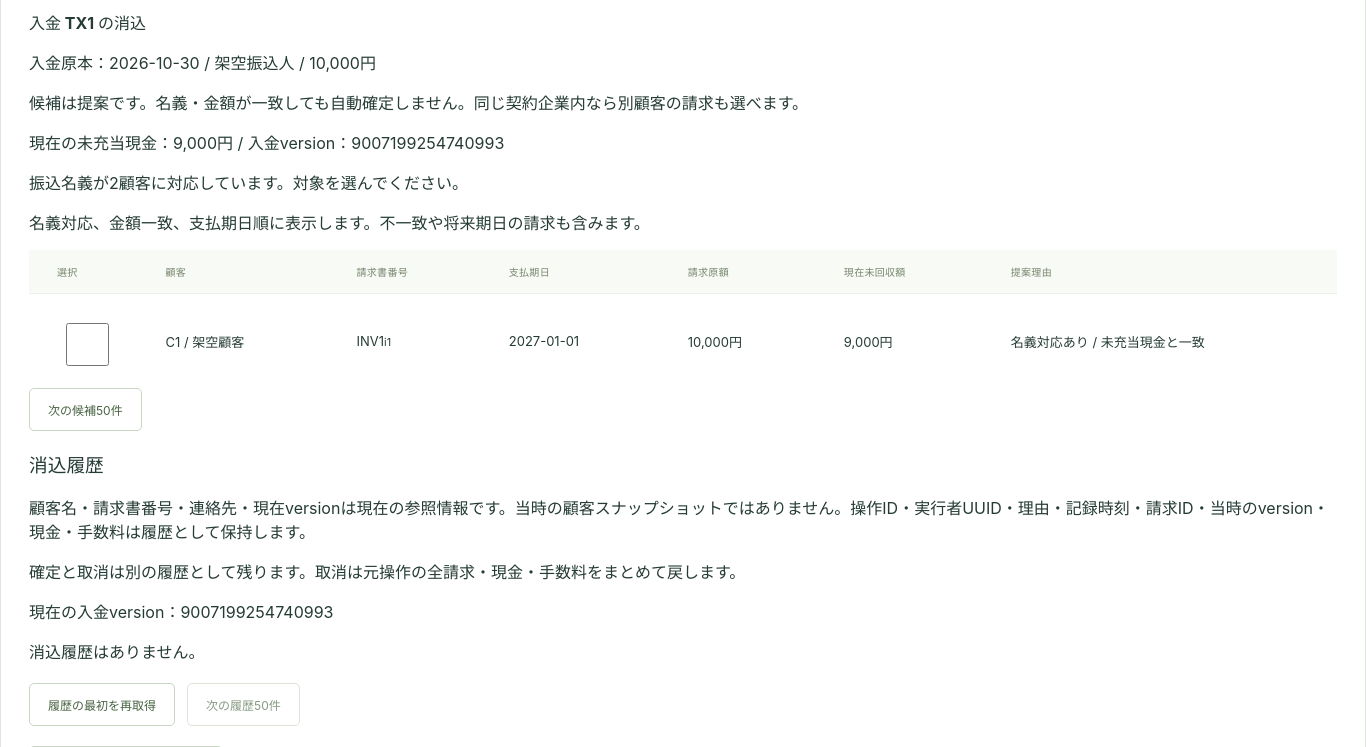
Test: Human payment allocation selection › never preselects even exact matches and keeps selections across server cursors including another customer
Expected: the text "振込名義が2顧客に対応しています。対象を選んでください。" is shown, [29,173,468,193]
Step 1. Click the checkbox named "請求 INV1 を選択" → (87, 344), box [61,323,114,366]
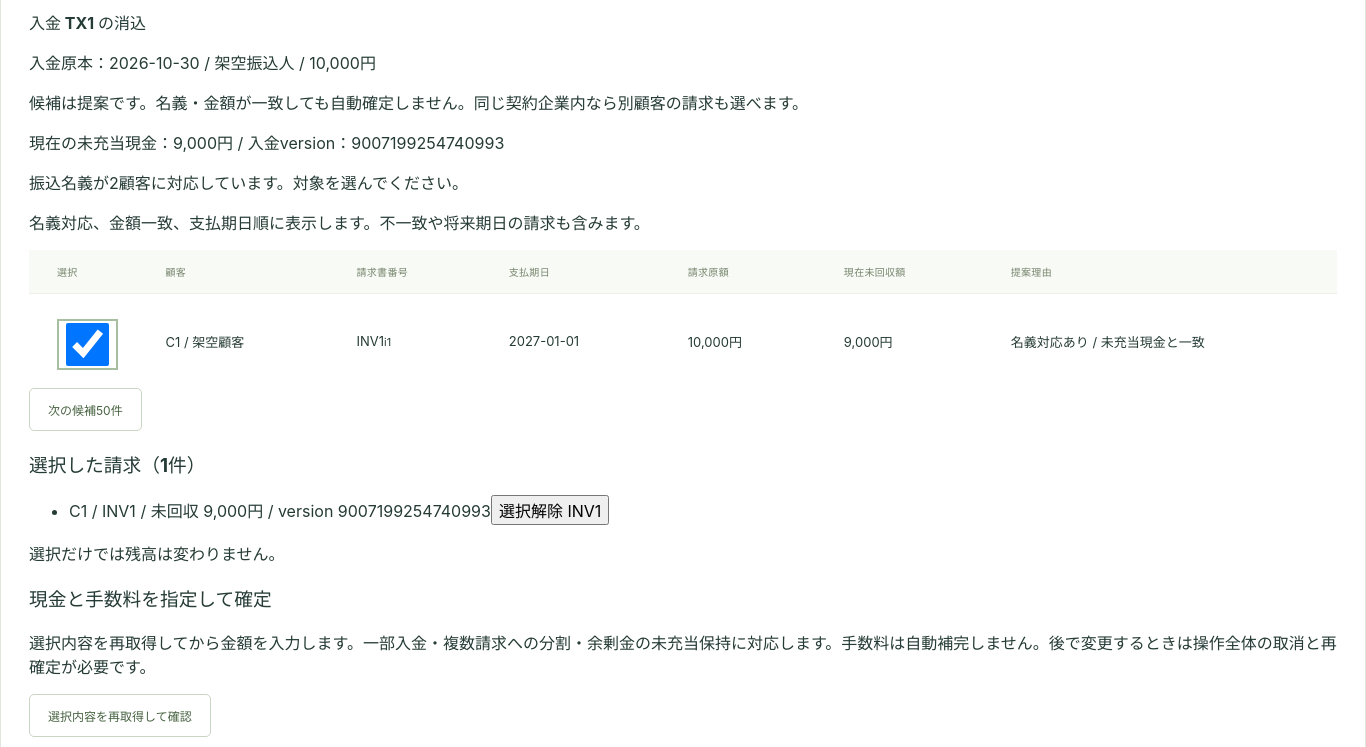
Result: the element "選択した請求" shows "9007199254740993" at [338,501,491,521]
Step 2. Click the button "次の候補50件" → (85, 410), box [29,388,142,431]
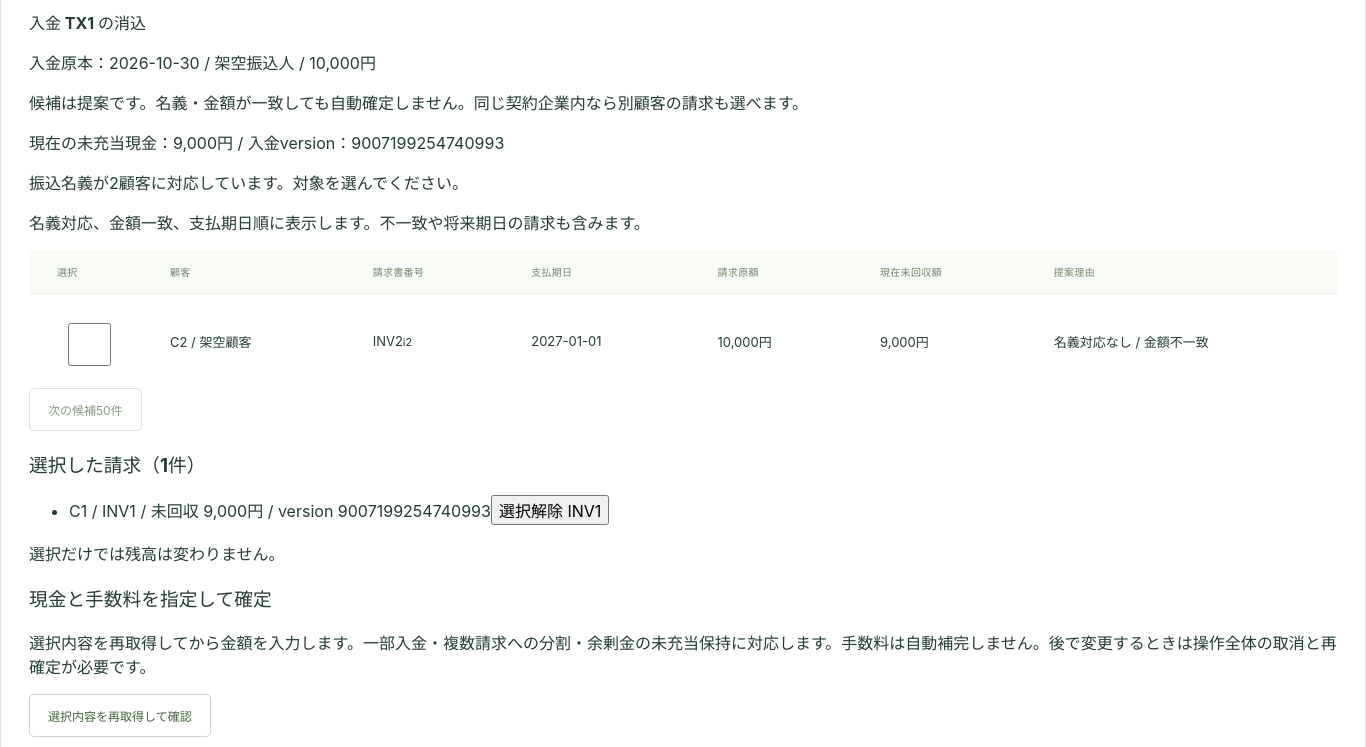
Step 3. Click the checkbox named "請求 INV2 を選択" → (90, 344), box [61,323,118,366]
(page scrolled)
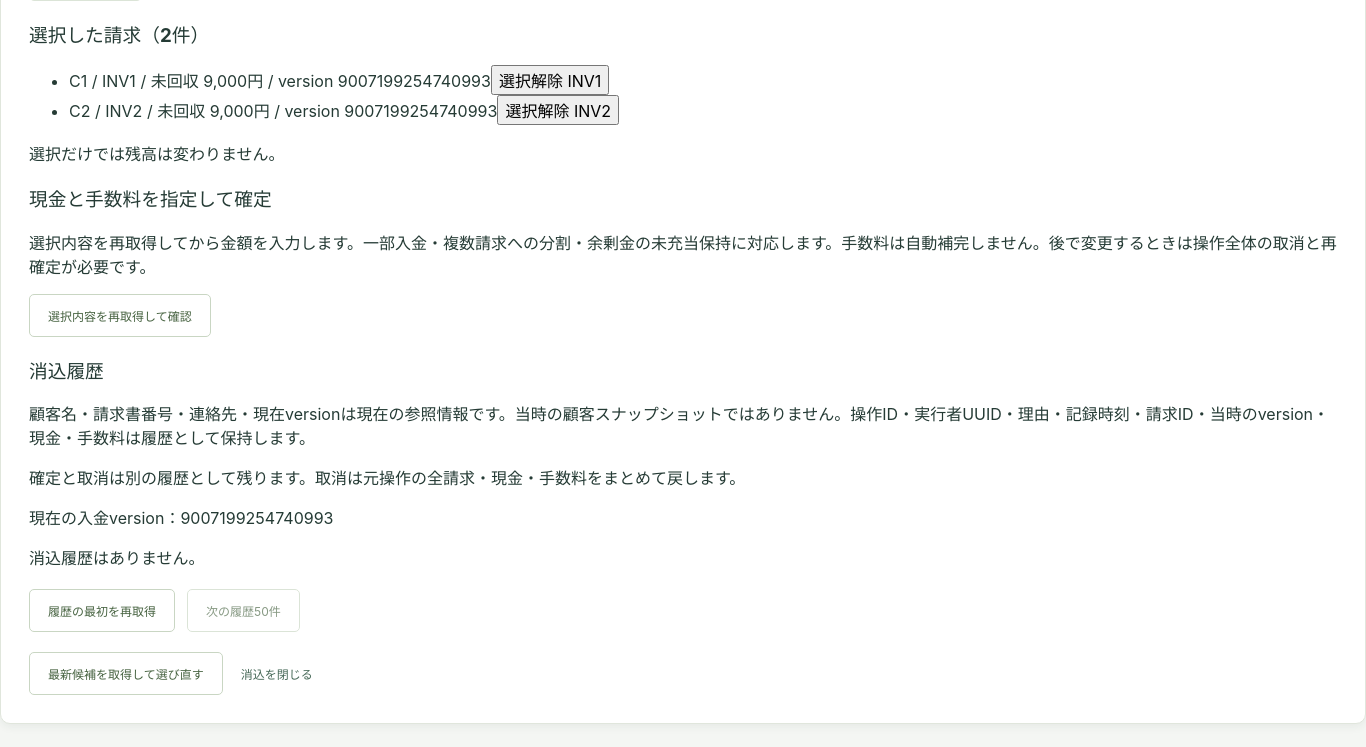
Result: the element "選択した請求" shows "INV1" at [102,71,136,91]
Result: the element "選択した請求" shows "INV2" at [105,101,142,121]
Step 4. Click the button "最新候補を取得して選び直す" → (126, 674), box [29,652,223,695]
(page scrolled)
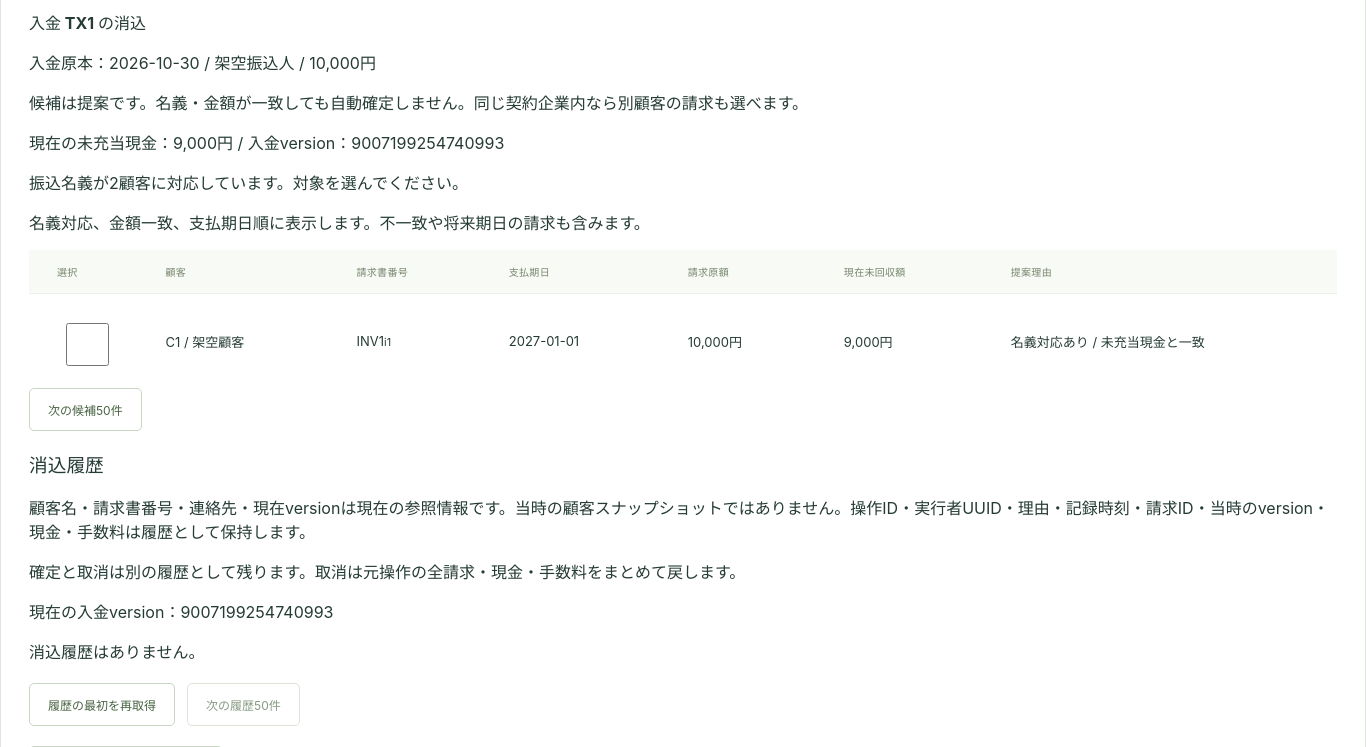
Result: the checkbox named "請求 INV1 を選択" is shown at [61,323,114,366]
Result: the heading "選択した請求" is gone
